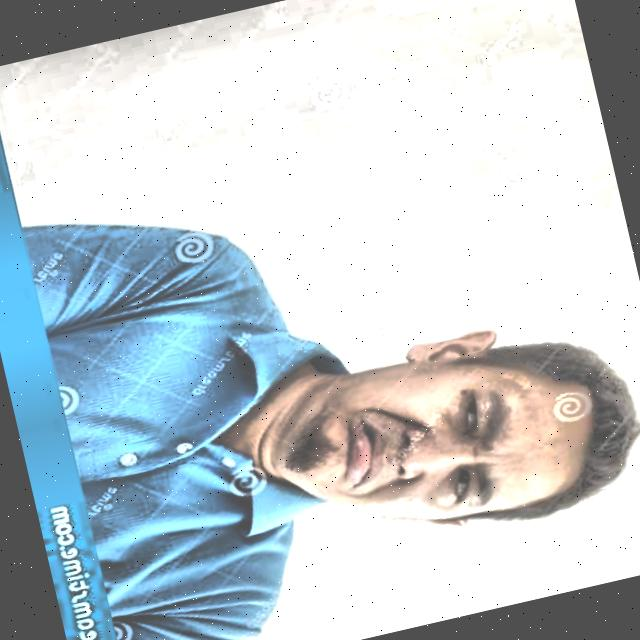disgust: (243, 283, 640, 578)
